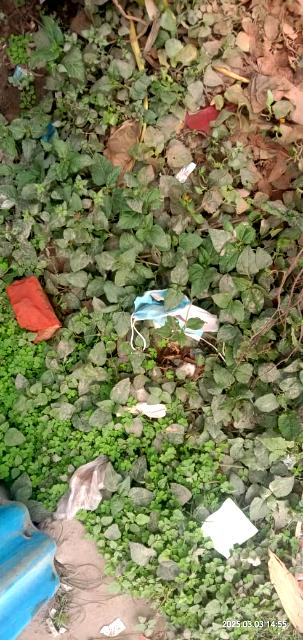mask: (118, 281, 223, 356)
